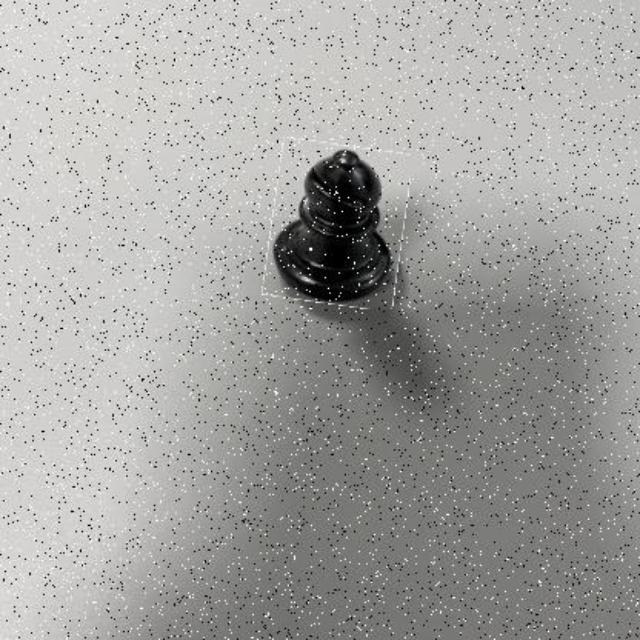black-bishop: (267, 141, 408, 307)
